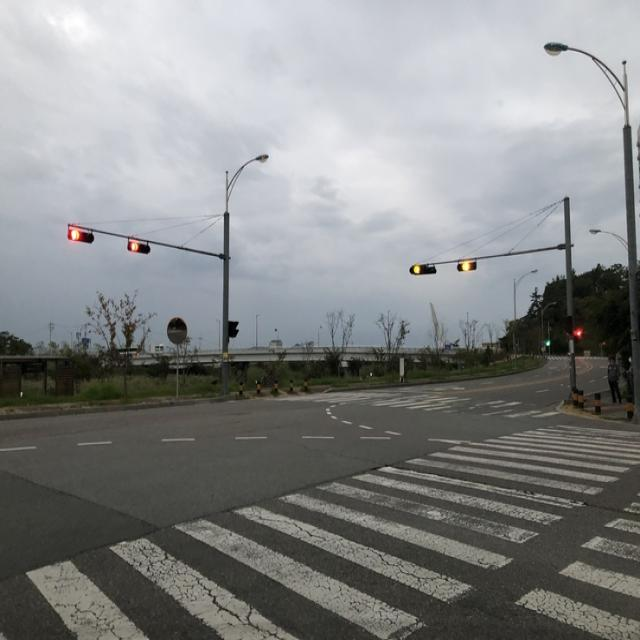Red Light: (67, 226, 81, 244), (128, 240, 139, 254)
Yellow Light: (460, 258, 470, 272), (412, 264, 422, 274)
